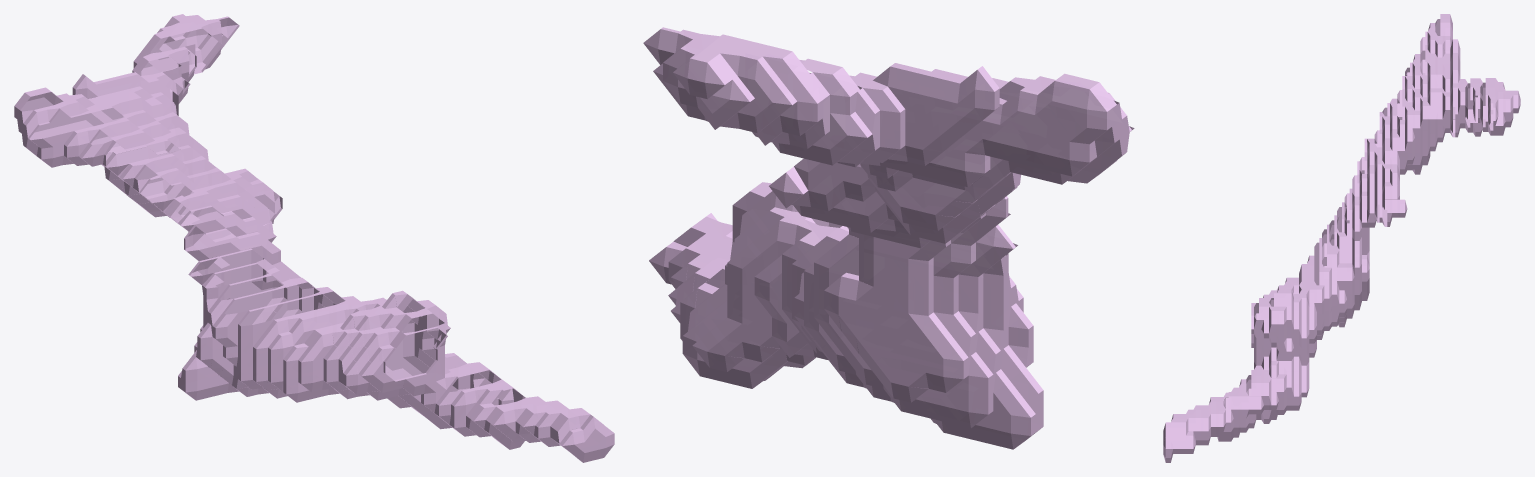
Rendered from SVV_FLPR.gltf.
The picture shows the model from 3 angles, left to right: view 1: azimuth 30°, elevation 25°; view 2: azimuth 150°, elevation 25°; view 3: azimuth 270°, elevation 25°; orthographic projection. The views are drawn at different scales.
Parts seen in each view (by area): view 1: FLPR; view 2: FLPR; view 3: FLPR.
Boxes of the visible parts, x1,y1,x2,y2 form: FLPR: (14,14,614,462); FLPR: (643,27,1134,449); FLPR: (1163,14,1520,462).
Size of the model in its own units: 20998 by 15879 by 18187.
